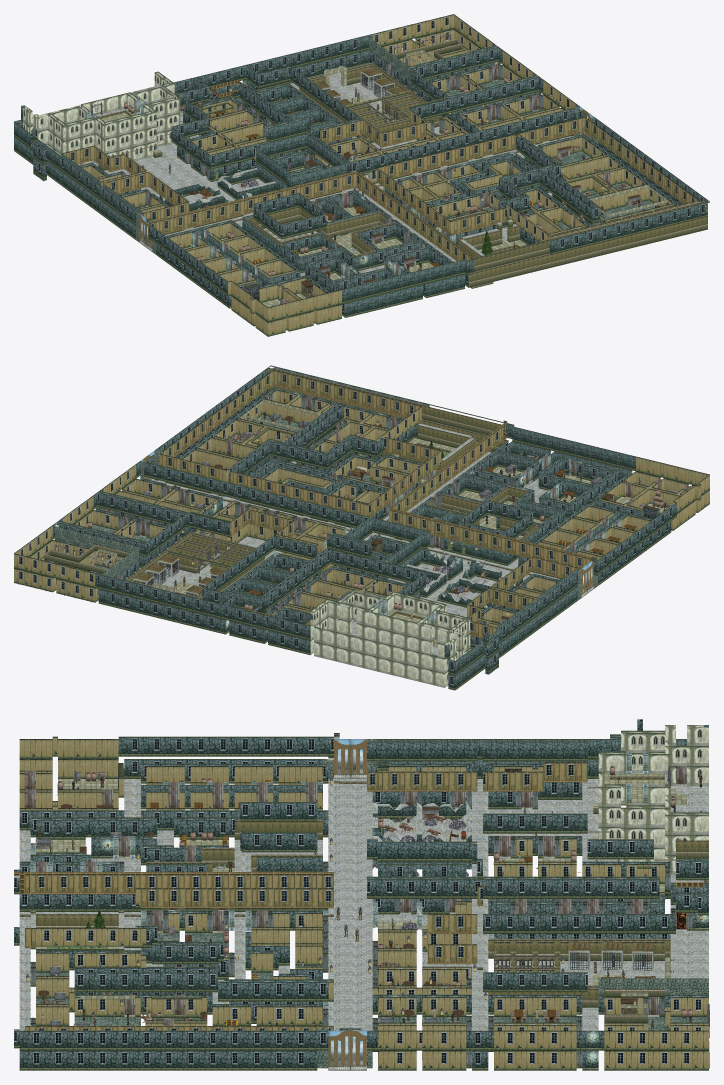
Rendered from map.gltf.
3 views of the same model, one above another, from view 1: azimuth 30°, elevation 25°; view 2: azimuth 150°, elevation 25°; view 3: azimuth 270°, elevation 25° (orthographic). The views are drawn at different scales.
Size of the model in its own units: 127 by 19 by 126.
Materials: 56 (56 with a texture image).
